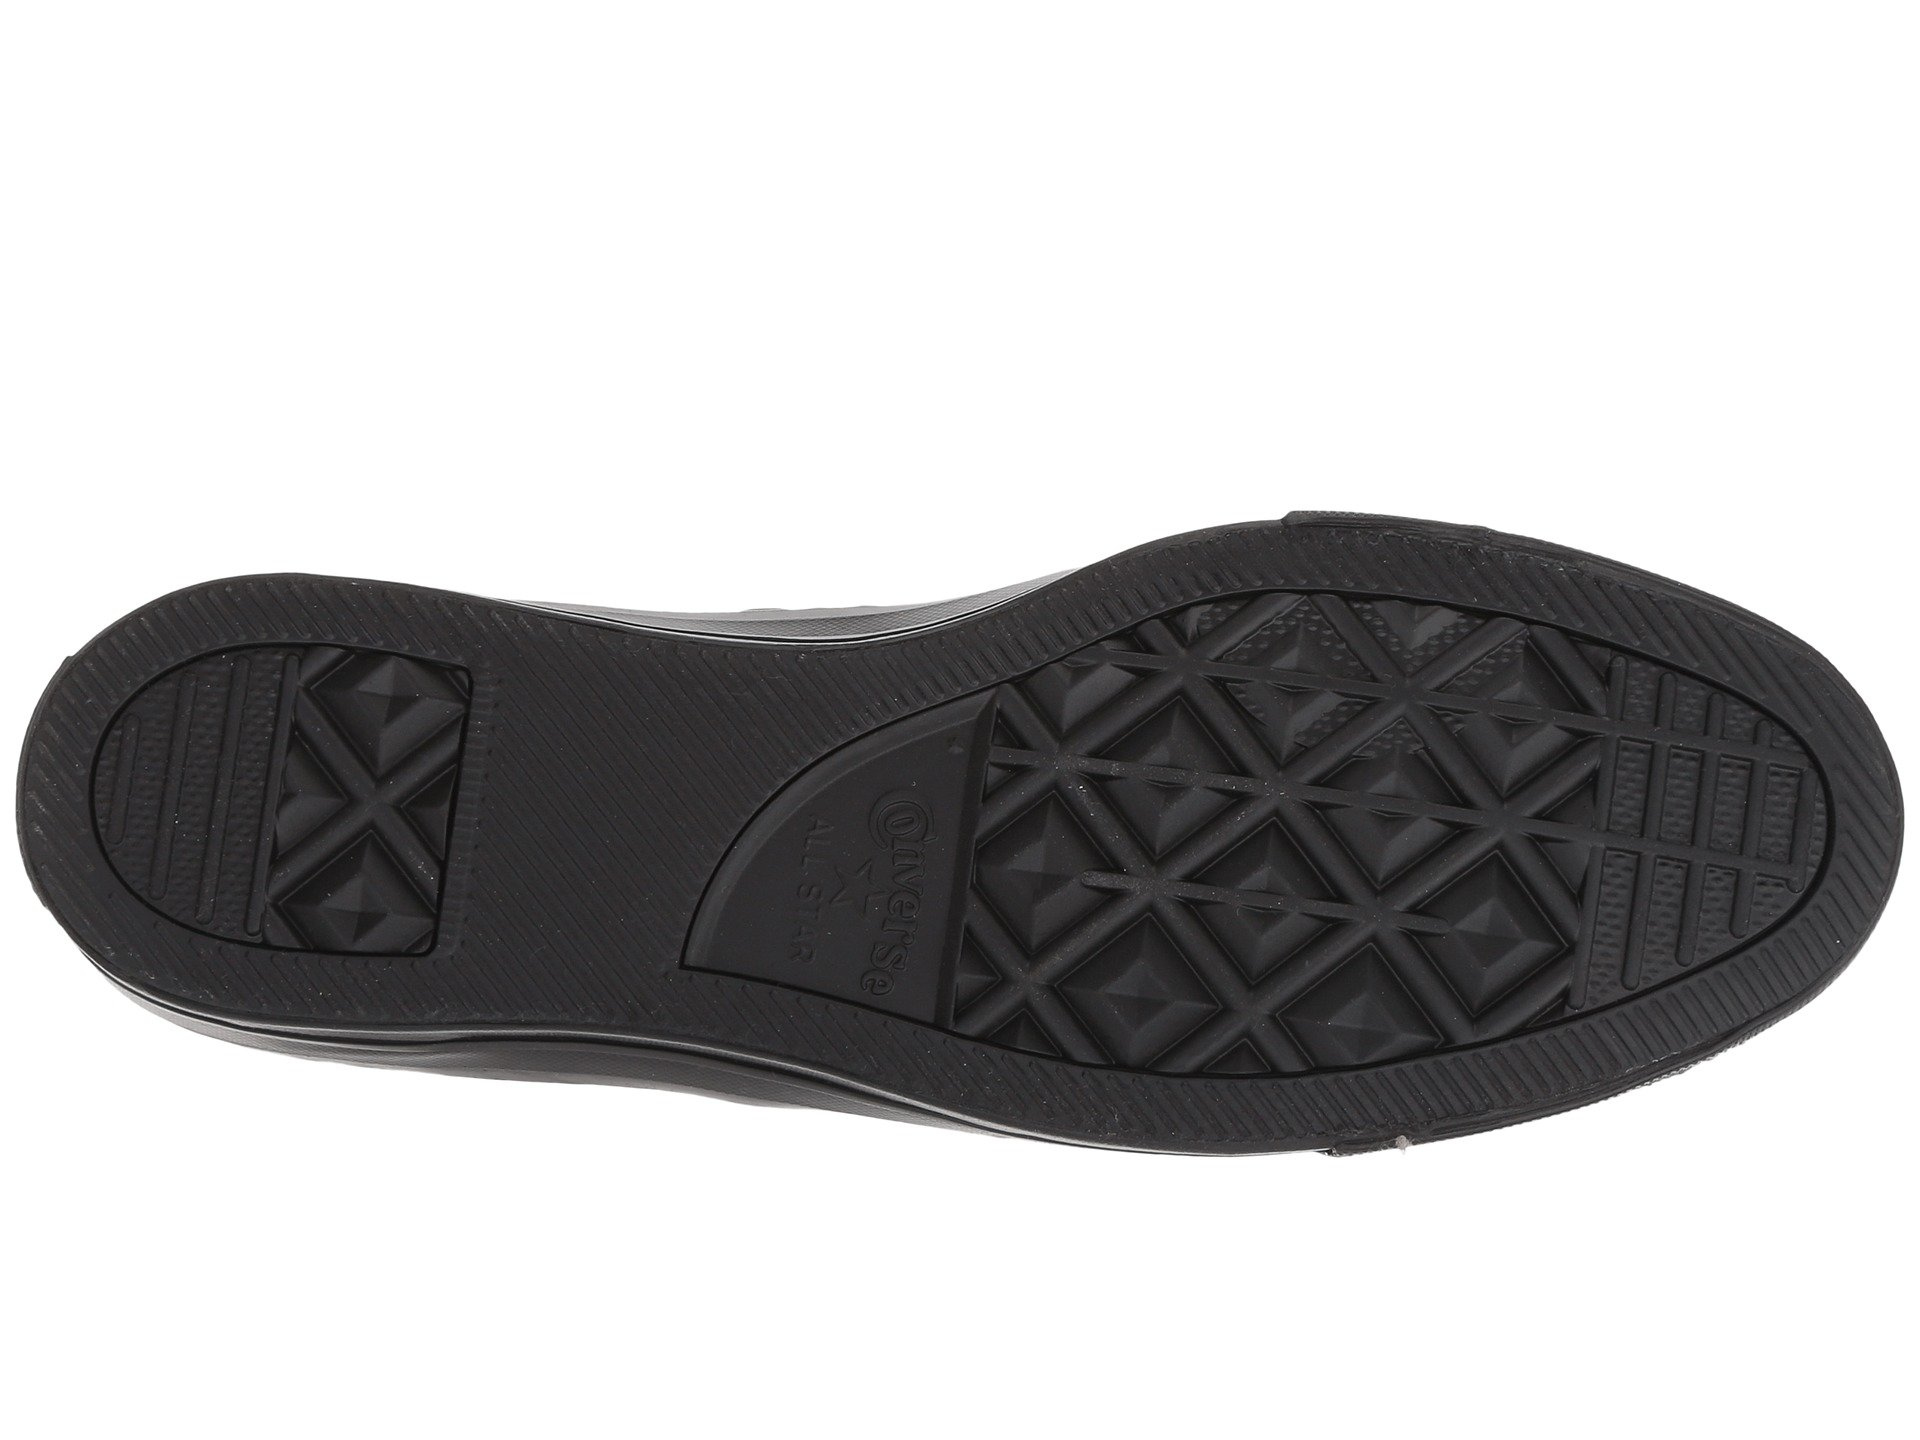chevron: (1023, 157, 1442, 599)
other: (460, 253, 720, 507)
quad: (1023, 157, 1442, 599)
star: (831, 393, 925, 517)
text: (785, 374, 962, 554)
triangle: (1023, 157, 1442, 599)
